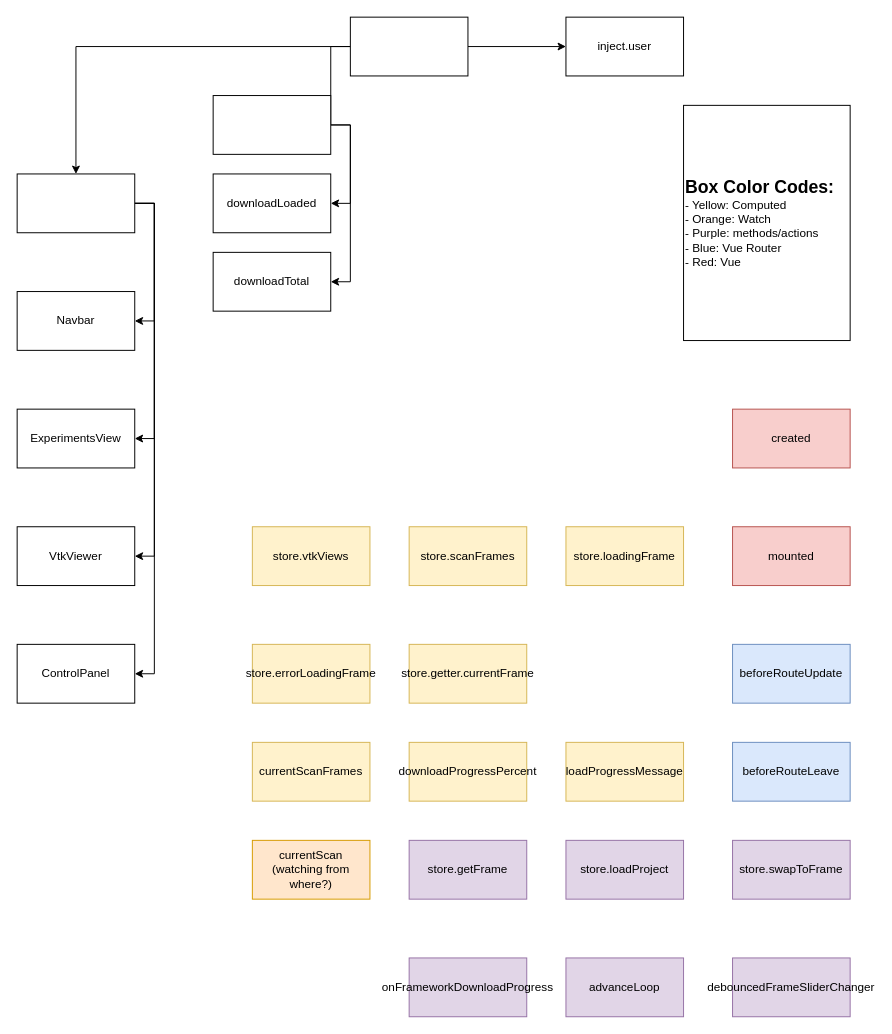
The diagram is 892 pixels wide and 1034 high, and some of its shapes have lost their labels. Each missing label, with the centre of its shape:
Components: the point at 75,203
data: the point at 271,124
Frame.vue: the point at 408,46
